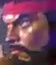ryu: (3, 0, 50, 63)
